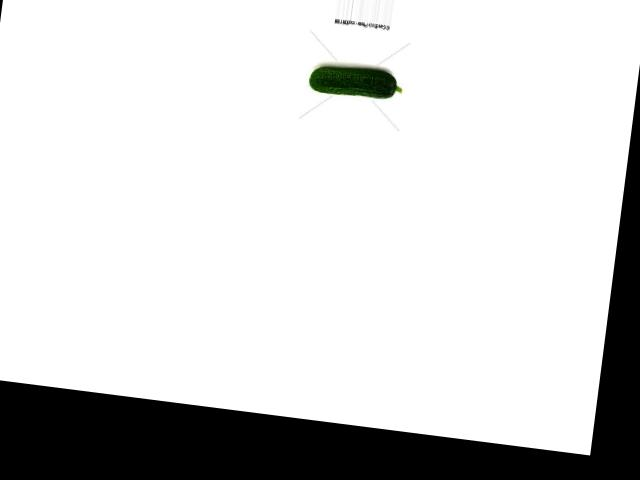cucumber: (307, 61, 404, 102)
